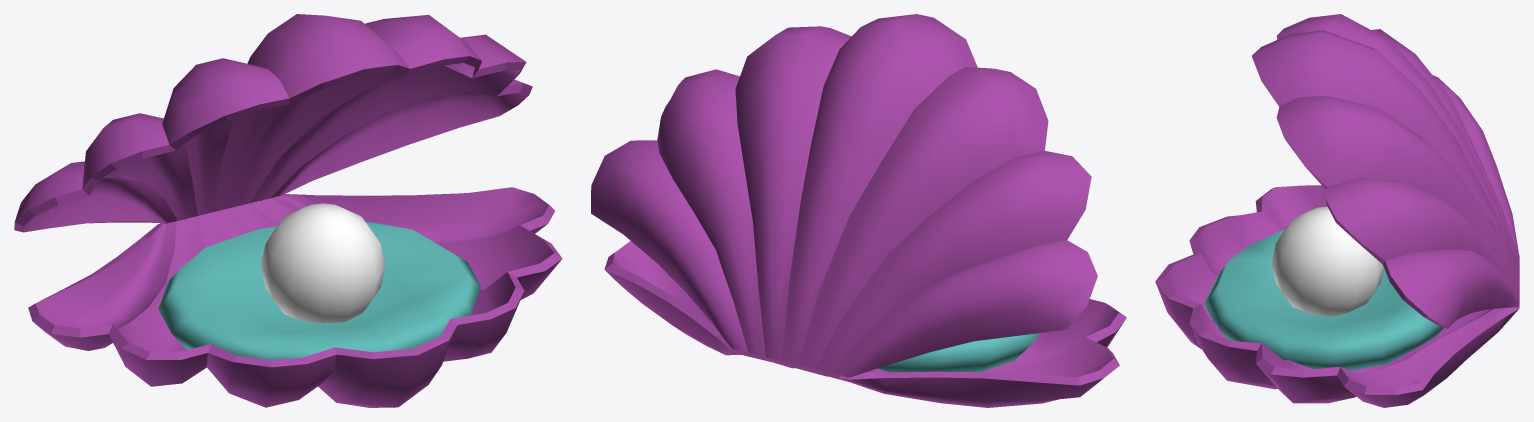
File: ShellPearl.fbx
3 views of the same model, side by side, from view 1: azimuth 30°, elevation 25°; view 2: azimuth 150°, elevation 25°; view 3: azimuth 270°, elevation 25° (orthographic). The views are drawn at different scales.
Parts seen in each view (by area): view 1: ShellPearl; view 2: ShellPearl; view 3: ShellPearl.
Boxes of the visible parts, x1,y1,x2,y2 form: ShellPearl: [14, 14, 562, 407]; ShellPearl: [591, 14, 1126, 407]; ShellPearl: [1155, 14, 1519, 407].
Bounding box in the file's own units: 210 × 142 × 143.
